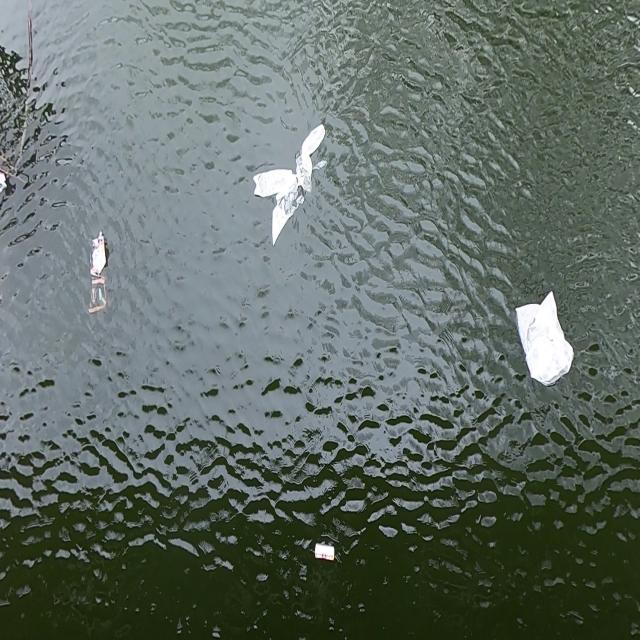Non plastique: (312, 539, 339, 570)
Sac plastique: (246, 114, 335, 256), (509, 285, 579, 392)
